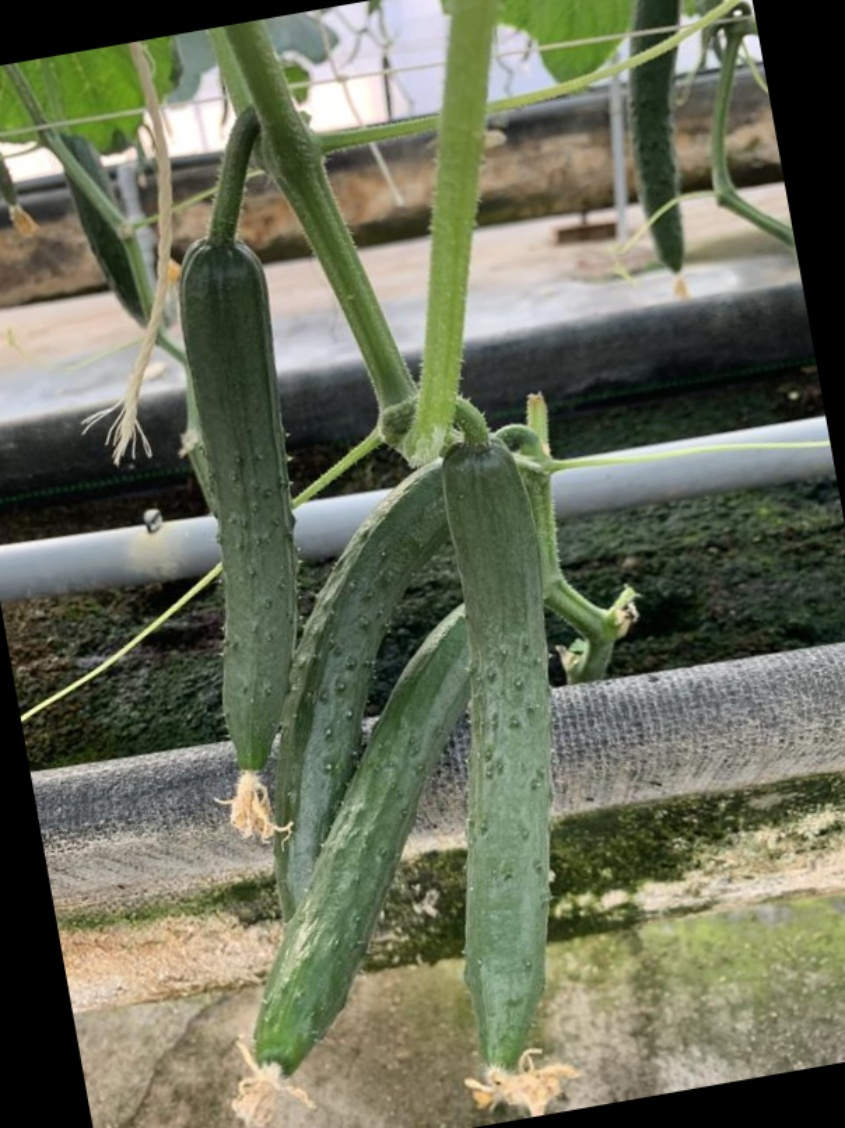mature: (248, 601, 475, 1077), (445, 431, 563, 1086)
